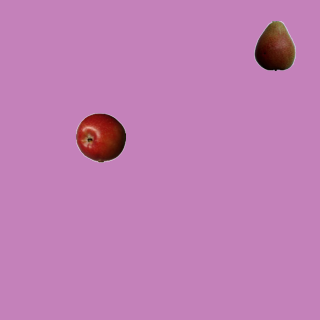Apple Braeburn: (75, 112, 125, 162)
Pear Forelle: (249, 20, 299, 70)
